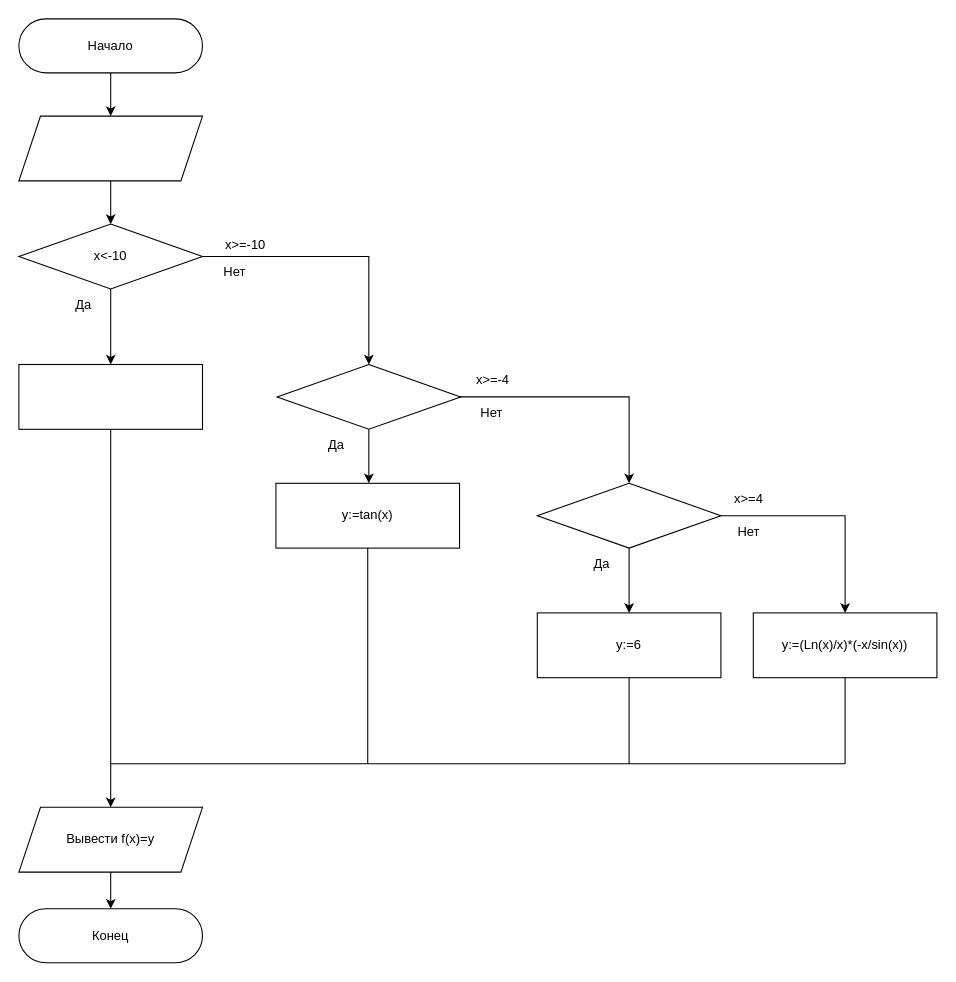
Some shapes in this 956 by 982 pixel diagram are drawn without their labels. The shapes that lost their labels are listed below. From the top down, each one's centre as x and y in pixels, then its label:
At point (110, 148): "Считать x".
At point (110, 396): "y:=(x**2/x**2)*(x**(0.1*x)/x**3)".
At point (368, 396): "x<-4".
At point (628, 515): "x<4".
